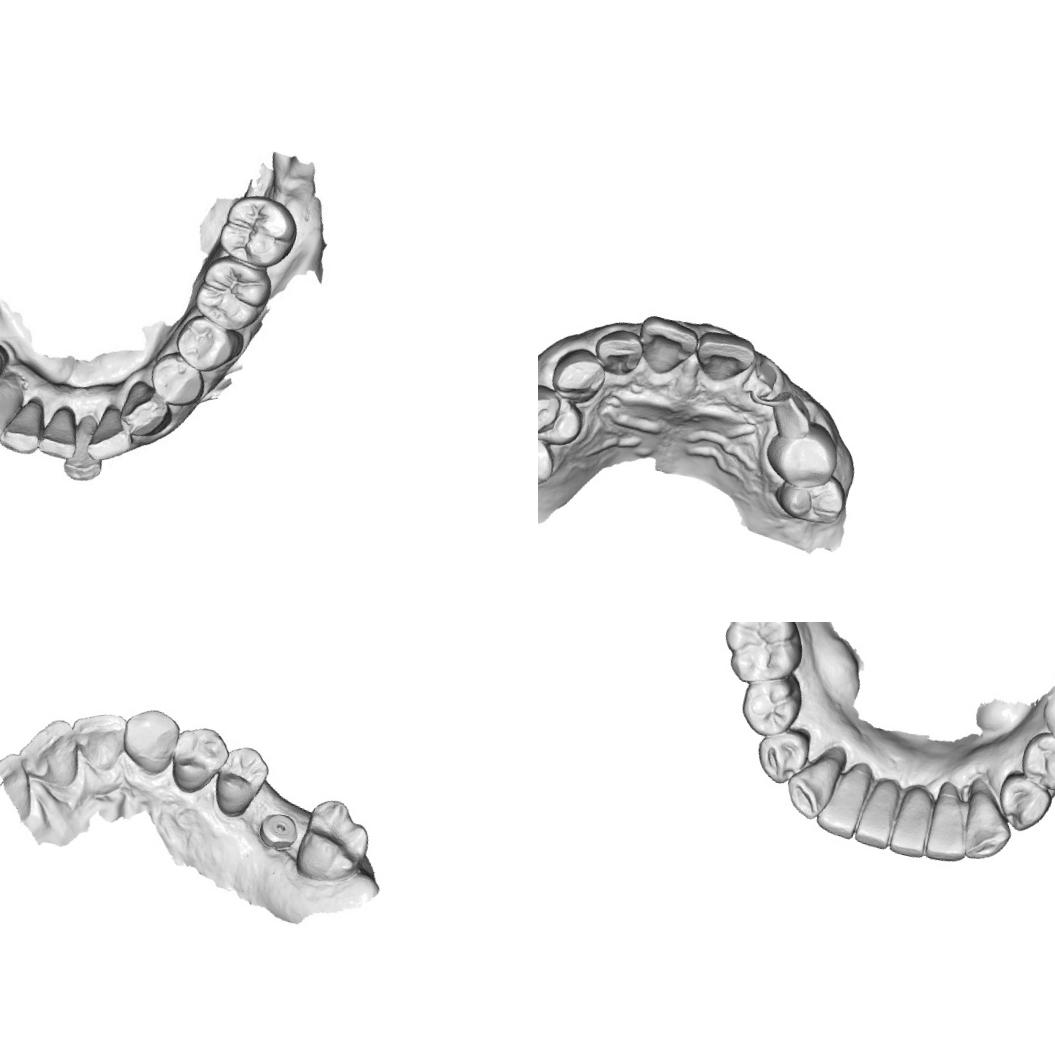canine: (114, 702, 185, 780), (782, 745, 846, 823), (956, 790, 1016, 868), (546, 341, 612, 408), (120, 377, 170, 443), (0, 369, 24, 455)
implant: (253, 807, 303, 856)
incisor: (12, 711, 90, 791), (630, 312, 703, 383), (63, 703, 131, 776), (690, 325, 761, 390), (812, 769, 871, 842), (920, 798, 976, 866), (850, 782, 902, 852), (884, 794, 937, 862), (0, 393, 52, 461), (589, 322, 648, 380), (85, 402, 139, 465), (0, 747, 44, 822), (35, 398, 86, 459), (64, 416, 110, 482)
molar: (290, 792, 378, 892), (714, 622, 809, 695), (216, 194, 299, 268), (196, 258, 275, 332)
premolar: (760, 412, 846, 497), (164, 720, 235, 802), (769, 462, 852, 532), (207, 739, 275, 823), (734, 669, 807, 742), (989, 767, 1055, 837), (750, 720, 816, 790), (173, 313, 239, 376), (538, 379, 591, 451), (151, 353, 206, 409), (1014, 727, 1055, 795), (538, 419, 564, 492)
